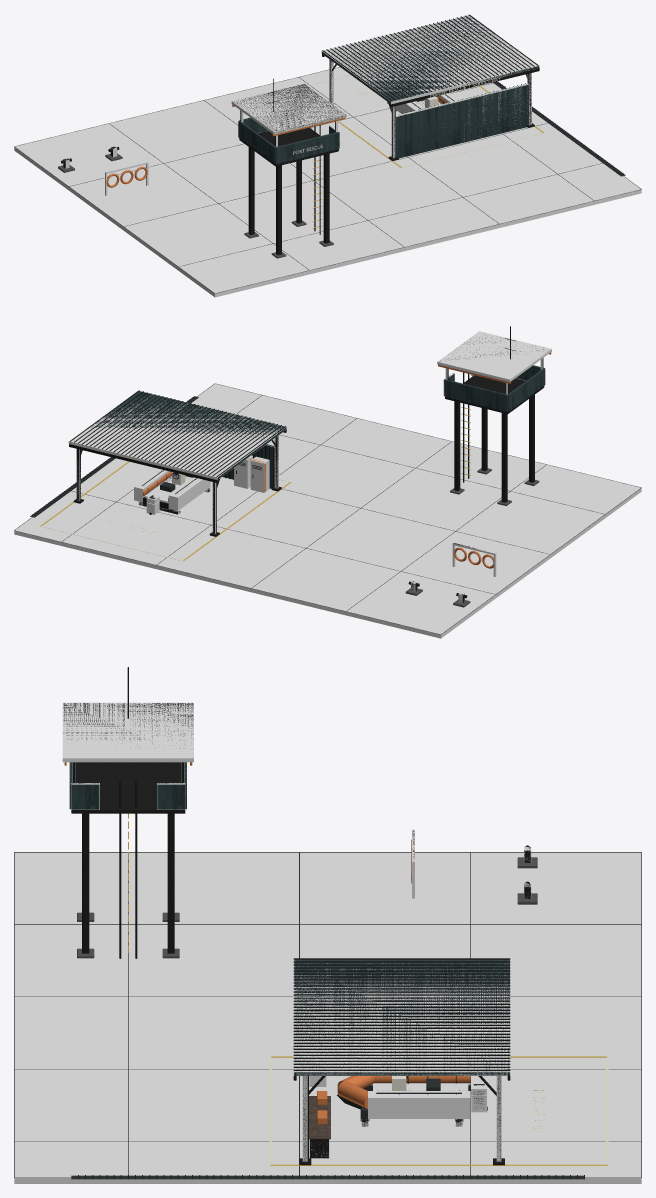
Rendered from rescue-quay.glb.
The picture shows the model from 3 angles, top to bottom: view 1: azimuth 30°, elevation 25°; view 2: azimuth 150°, elevation 25°; view 3: azimuth 270°, elevation 25°; orthographic projection. The views are drawn at different scales.
Parts seen in each view (by area): view 1: COL_MOVE_RESCUE_QUAY_APRON_00, MESH_RESCUE_QUAY_RQ_SHEET_LOD0, MESH_RESCUE_QUAY_RQ_STEEL_LOD0, COL_MOVE_RESCUE_QUAY_WORKSHOP_ROOF_12, COL_MOVE_RESCUE_QUAY_TOWER_ROOF_07, MESH_RESCUE_QUAY_RQ_RUBBER_LOD0, MESH_RESCUE_QUAY_RQ_SIGN_LOD0, MESH_RESCUE_QUAY_RQ_ORANGE_LOD0, COL_MOVE_RESCUE_QUAY_WORKSHOP_BACK_13, MESH_RESCUE_QUAY_RQ_CONCRETE_LOD0; view 2: COL_MOVE_RESCUE_QUAY_APRON_00, MESH_RESCUE_QUAY_RQ_STEEL_LOD0, COL_MOVE_RESCUE_QUAY_WORKSHOP_ROOF_12, MESH_RESCUE_QUAY_RQ_SHEET_LOD0, MESH_RESCUE_QUAY_RQ_RUBBER_LOD0, COL_MOVE_RESCUE_QUAY_TOWER_ROOF_07, COL_MOVE_RESCUE_QUAY_RIB_TUBE_53.4, MESH_RESCUE_QUAY_RQ_ORANGE_LOD0, COL_MOVE_RESCUE_QUAY_LOCKER_14, MESH_RESCUE_QUAY_RQ_SAFETY_LOD0, MESH_RESCUE_QUAY_RQ_SIGN_LOD0, COL_MOVE_RESCUE_QUAY_RIB_TUBE_55.6 (+1 smaller); view 3: COL_MOVE_RESCUE_QUAY_APRON_00, MESH_RESCUE_QUAY_RQ_STEEL_LOD0, MESH_RESCUE_QUAY_RQ_SHEET_LOD0, COL_MOVE_RESCUE_QUAY_WORKSHOP_ROOF_12, COL_MOVE_RESCUE_QUAY_TOWER_ROOF_07, MESH_RESCUE_QUAY_RQ_RUBBER_LOD0, COL_MOVE_RESCUE_QUAY_RIB_TUBE_55.6, MESH_RESCUE_QUAY_RQ_ORANGE_LOD0, MESH_RESCUE_QUAY_RQ_SIGN_LOD0, MESH_RESCUE_QUAY_RQ_SAFETY_LOD0, MESH_RESCUE_QUAY_RQ_CONCRETE_LOD0, MESH_RESCUE_QUAY_RQ_WOOD_LOD0.
Part boxes in pixels (x1,y1,x2,y2): COL_MOVE_RESCUE_QUAY_APRON_00: [14, 67, 641, 297]; MESH_RESCUE_QUAY_RQ_SHEET_LOD0: [238, 15, 539, 163]; MESH_RESCUE_QUAY_RQ_STEEL_LOD0: [61, 14, 623, 255]; COL_MOVE_RESCUE_QUAY_WORKSHOP_ROOF_12: [321, 15, 539, 104]; COL_MOVE_RESCUE_QUAY_TOWER_ROOF_07: [231, 83, 346, 134]; MESH_RESCUE_QUAY_RQ_RUBBER_LOD0: [14, 67, 641, 293]; MESH_RESCUE_QUAY_RQ_SIGN_LOD0: [293, 74, 543, 167]; MESH_RESCUE_QUAY_RQ_ORANGE_LOD0: [106, 95, 447, 187]; COL_MOVE_RESCUE_QUAY_WORKSHOP_BACK_13: [396, 83, 528, 139]; MESH_RESCUE_QUAY_RQ_CONCRETE_LOD0: [58, 153, 333, 258]; COL_MOVE_RESCUE_QUAY_APRON_00: [14, 383, 641, 638]; MESH_RESCUE_QUAY_RQ_STEEL_LOD0: [30, 326, 544, 602]; COL_MOVE_RESCUE_QUAY_WORKSHOP_ROOF_12: [68, 391, 286, 480]; MESH_RESCUE_QUAY_RQ_SHEET_LOD0: [89, 365, 545, 488]; MESH_RESCUE_QUAY_RQ_RUBBER_LOD0: [14, 383, 641, 634]; COL_MOVE_RESCUE_QUAY_TOWER_ROOF_07: [437, 331, 551, 382]; COL_MOVE_RESCUE_QUAY_RIB_TUBE_53.4: [168, 477, 210, 510]; MESH_RESCUE_QUAY_RQ_ORANGE_LOD0: [143, 351, 551, 568]; COL_MOVE_RESCUE_QUAY_LOCKER_14: [250, 456, 269, 492]; MESH_RESCUE_QUAY_RQ_SAFETY_LOD0: [40, 407, 470, 560]; MESH_RESCUE_QUAY_RQ_SIGN_LOD0: [41, 473, 290, 561]; COL_MOVE_RESCUE_QUAY_RIB_TUBE_55.6: [134, 469, 171, 502]; COL_MOVE_RESCUE_QUAY_APRON_00: [14, 852, 641, 1183]; MESH_RESCUE_QUAY_RQ_STEEL_LOD0: [63, 667, 584, 1179]; MESH_RESCUE_QUAY_RQ_SHEET_LOD0: [69, 762, 509, 1075]; COL_MOVE_RESCUE_QUAY_WORKSHOP_ROOF_12: [293, 960, 510, 1075]; COL_MOVE_RESCUE_QUAY_TOWER_ROOF_07: [62, 702, 193, 762]; MESH_RESCUE_QUAY_RQ_RUBBER_LOD0: [14, 852, 641, 1179]; COL_MOVE_RESCUE_QUAY_RIB_TUBE_55.6: [368, 1091, 470, 1118]; MESH_RESCUE_QUAY_RQ_ORANGE_LOD0: [64, 762, 470, 1124]; MESH_RESCUE_QUAY_RQ_SIGN_LOD0: [269, 991, 608, 1165]; MESH_RESCUE_QUAY_RQ_SAFETY_LOD0: [128, 813, 607, 1165]; MESH_RESCUE_QUAY_RQ_CONCRETE_LOD0: [77, 857, 537, 958]; MESH_RESCUE_QUAY_RQ_WOOD_LOD0: [309, 1096, 330, 1139].
Size of what is drawn, in the model's own units: 27.17 by 10.2 by 22.03.
9 materials, 4 textured.
